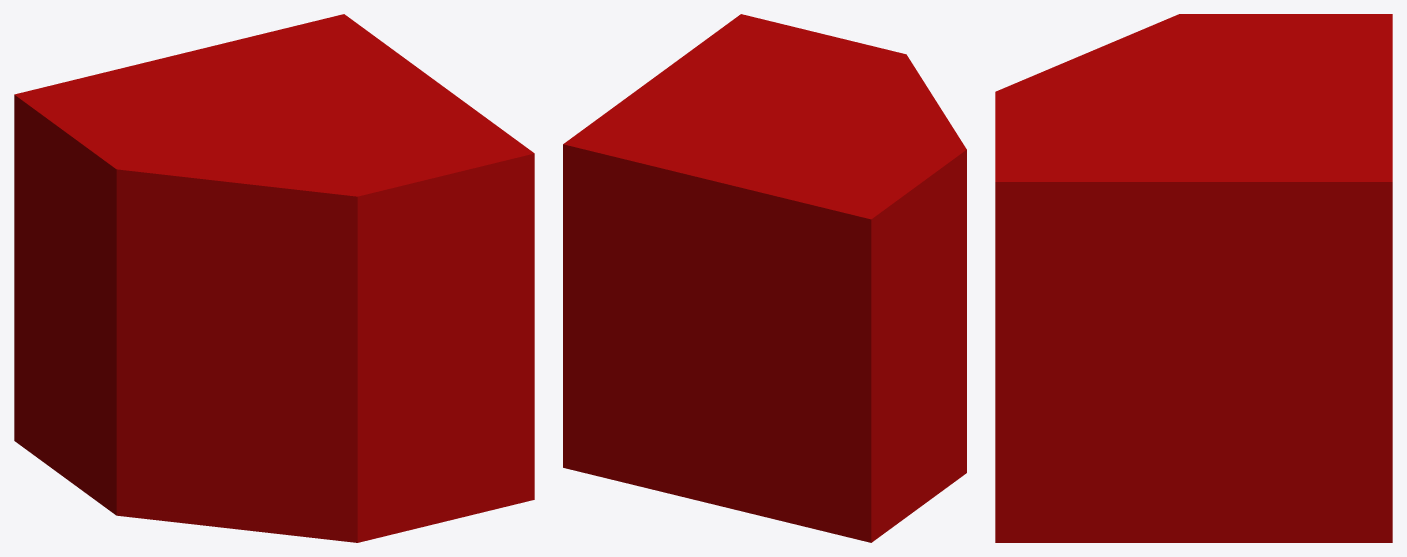
File: UCX_tunnelAngleB.fbx
3 views of the same model, side by side, from view 1: azimuth 30°, elevation 25°; view 2: azimuth 150°, elevation 25°; view 3: azimuth 270°, elevation 25° (orthographic). The views are drawn at different scales.
Parts seen in each view (by area): view 1: UCX_tunnelAngleB; view 2: UCX_tunnelAngleB; view 3: UCX_tunnelAngleB.
Part boxes in pixels (x1,y1,x2,y2): UCX_tunnelAngleB: (14,14,534,542); UCX_tunnelAngleB: (563,14,966,542); UCX_tunnelAngleB: (995,14,1392,542).
Size of the model in its own units: 3 by 3.01 by 3.
